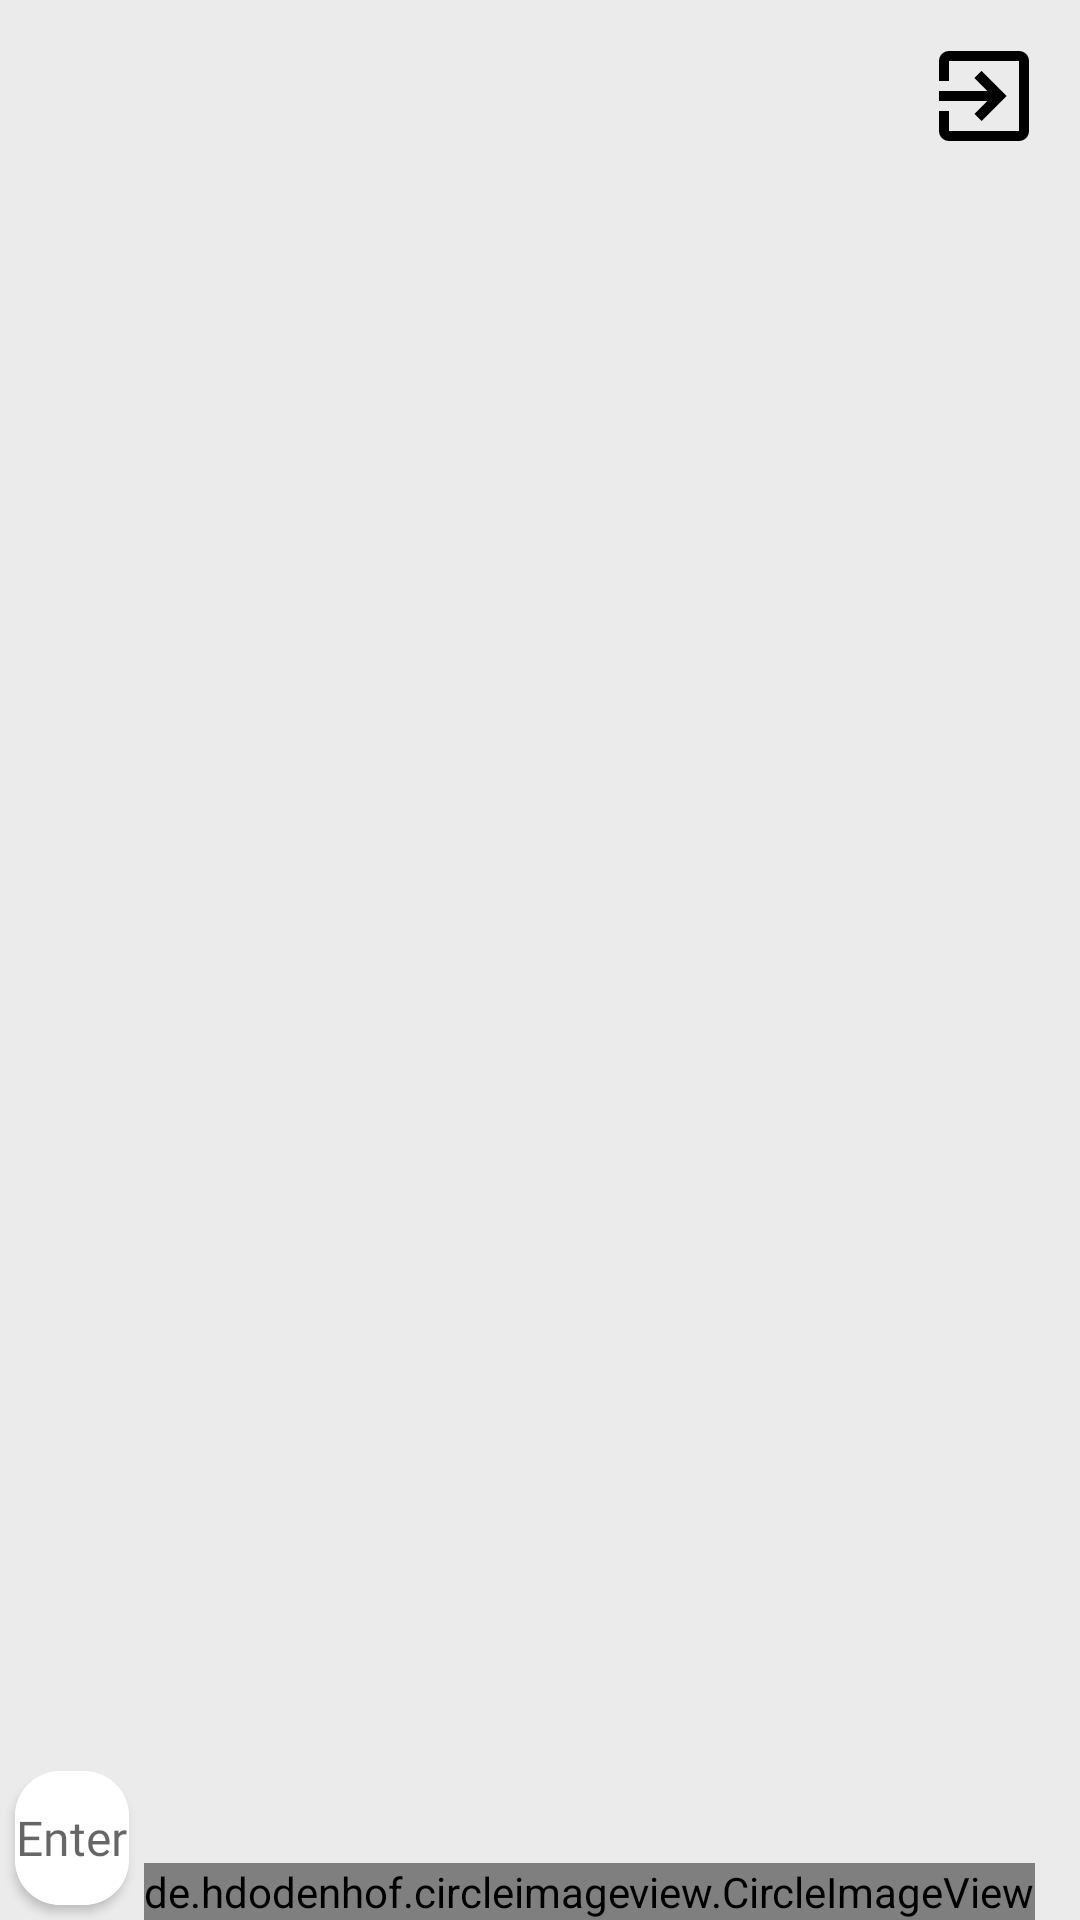

Icons on this 1080px x 1920px Android screen, each with its box as (x1, y1, x2, y2):
exit to app: (939, 51, 1029, 141)
